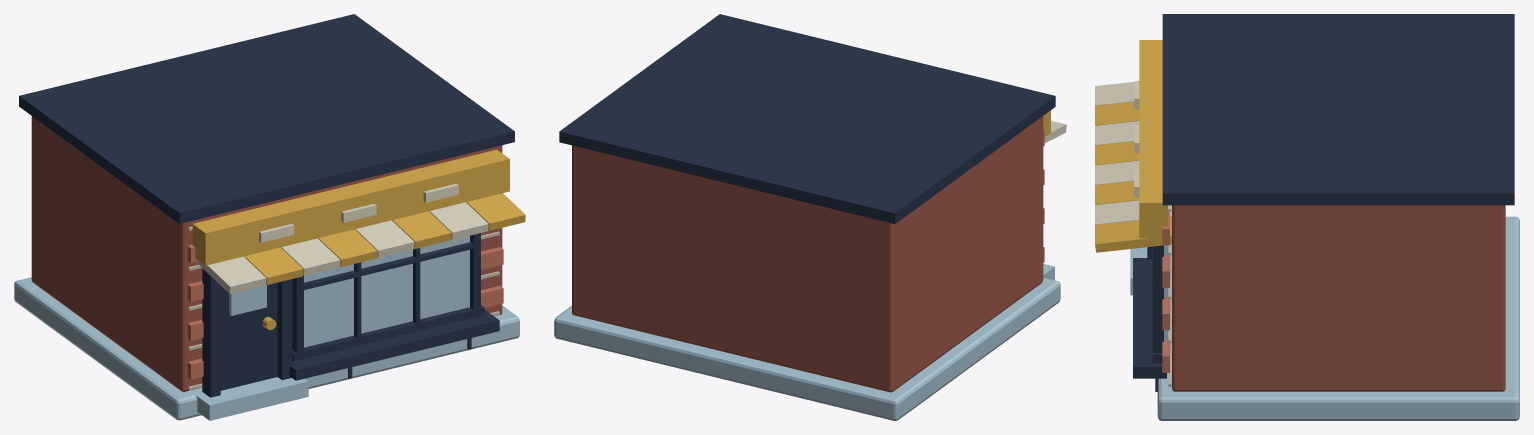
Rendered from base_shop_works.glb.
3 views of the same model, side by side, from view 1: azimuth 30°, elevation 25°; view 2: azimuth 150°, elevation 25°; view 3: azimuth 270°, elevation 25° (orthographic). The views are drawn at different scales.
Visible parts, largest first — view 1: base_shop_works ink, base_shop_works brick, base_shop_works ochre, base_shop_works mist, base_shop_works glass, base_shop_works plaster, base_shop_works clay, base_shop_works mortar; view 2: base_shop_works brick, base_shop_works ink, base_shop_works mist; view 3: base_shop_works ink, base_shop_works brick, base_shop_works mist, base_shop_works ochre, base_shop_works plaster, base_shop_works clay, base_shop_works mortar.
Boxes of the visible parts, box(x1,y1,x2,y2) form: base_shop_works ink: box(19, 14, 514, 397); base_shop_works brick: box(31, 116, 502, 391); base_shop_works ochre: box(192, 149, 525, 330); base_shop_works mist: box(14, 277, 519, 420); base_shop_works glass: box(229, 235, 469, 347); base_shop_works plaster: box(196, 183, 488, 293); base_shop_works clay: box(187, 244, 503, 379); base_shop_works mortar: box(188, 226, 499, 390); base_shop_works brick: box(572, 116, 1043, 392); base_shop_works ink: box(559, 14, 1055, 223); base_shop_works mist: box(554, 264, 1060, 420); base_shop_works ink: box(1133, 14, 1514, 391); base_shop_works brick: box(1172, 205, 1505, 391); base_shop_works mist: box(1130, 216, 1519, 420); base_shop_works ochre: box(1095, 40, 1171, 252); base_shop_works plaster: box(1095, 81, 1171, 224); base_shop_works clay: box(1162, 209, 1169, 372); base_shop_works mortar: box(1168, 205, 1171, 386).
Bounding box in the file's own units: 0.835 × 0.48 × 0.815.
